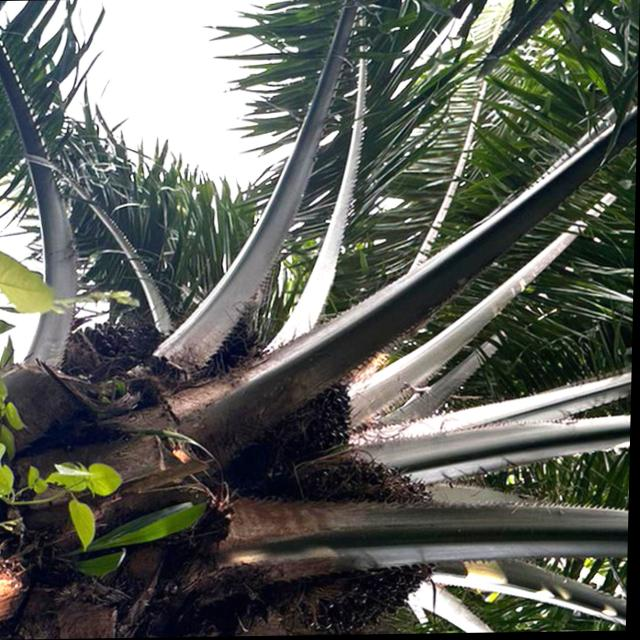almost: (268, 449, 465, 637), (234, 348, 367, 486)
